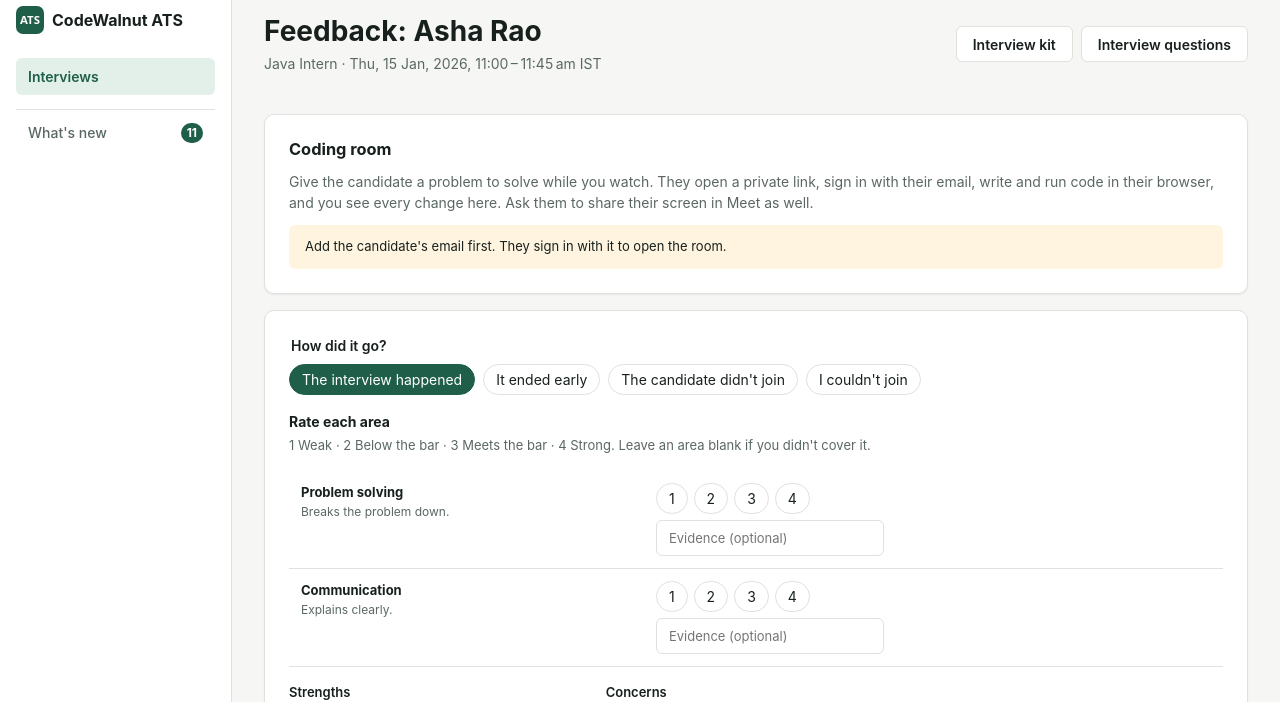
Test: InterviewFeedbackPage (INT-24…INT-26) › saves a private draft during the interview without a recommendation (INT-35)
The image size is (1280, 702).
Click the button named "Communication: 4 Strong" at {"x": 792, "y": 597}, box [775, 582, 810, 612]
(page scrolled)
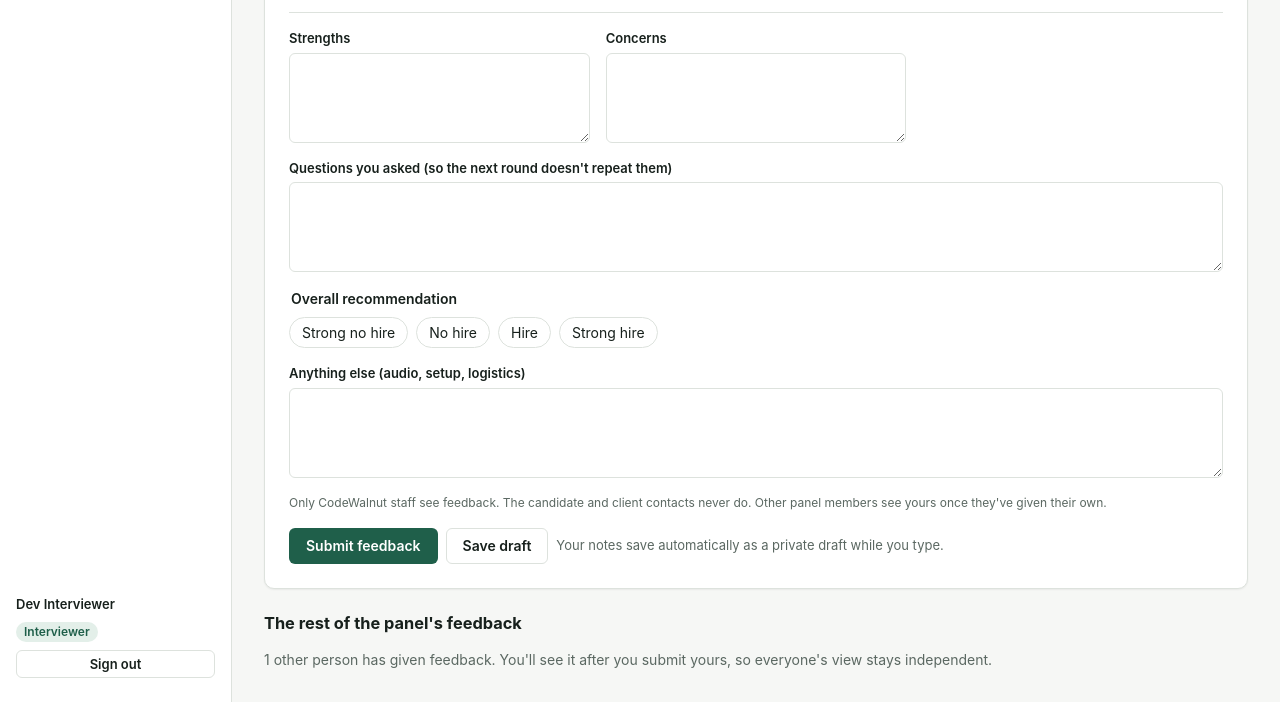
Expected: the text "Your notes save automatically as a private draft while you type." is shown, [556, 536, 944, 556]
Click the button "Save draft" at {"x": 497, "y": 546}, box [446, 528, 548, 564]
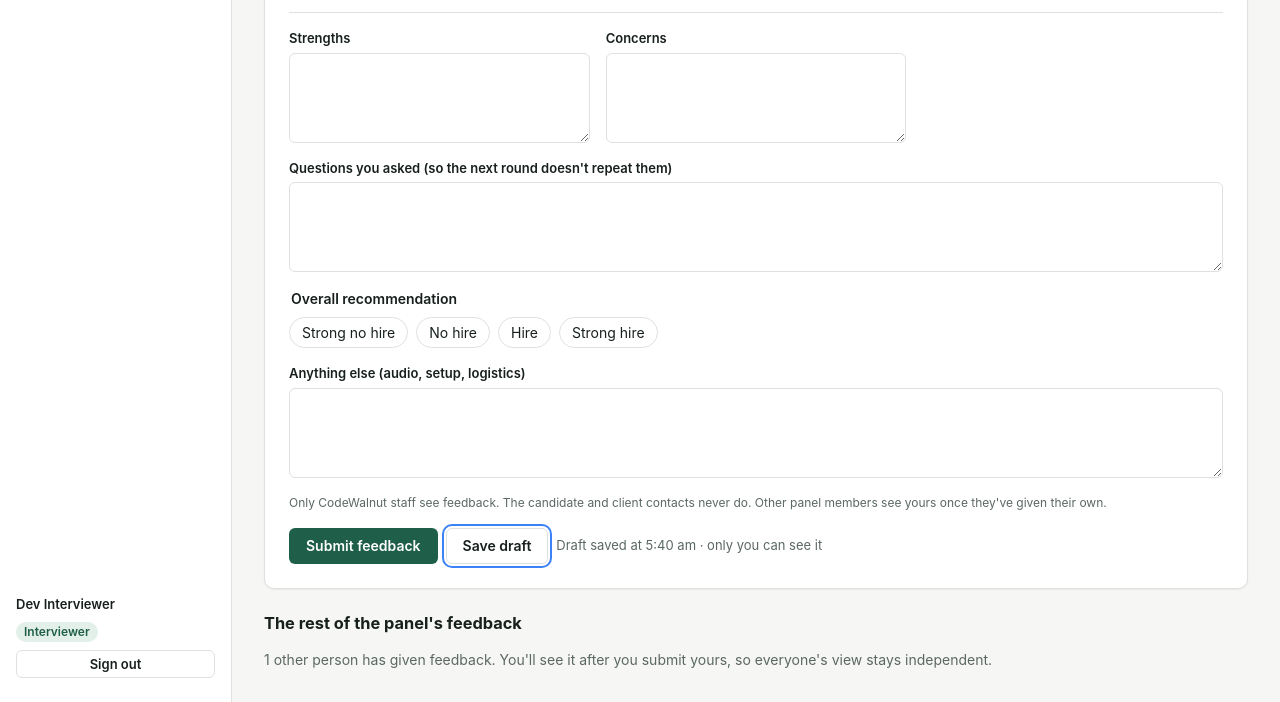
Expected: the button "Submit feedback" is shown, [289, 528, 438, 564]
Expected: the text "Draft saved at 5:40 am · only you can see it" is shown, [556, 536, 822, 556]
